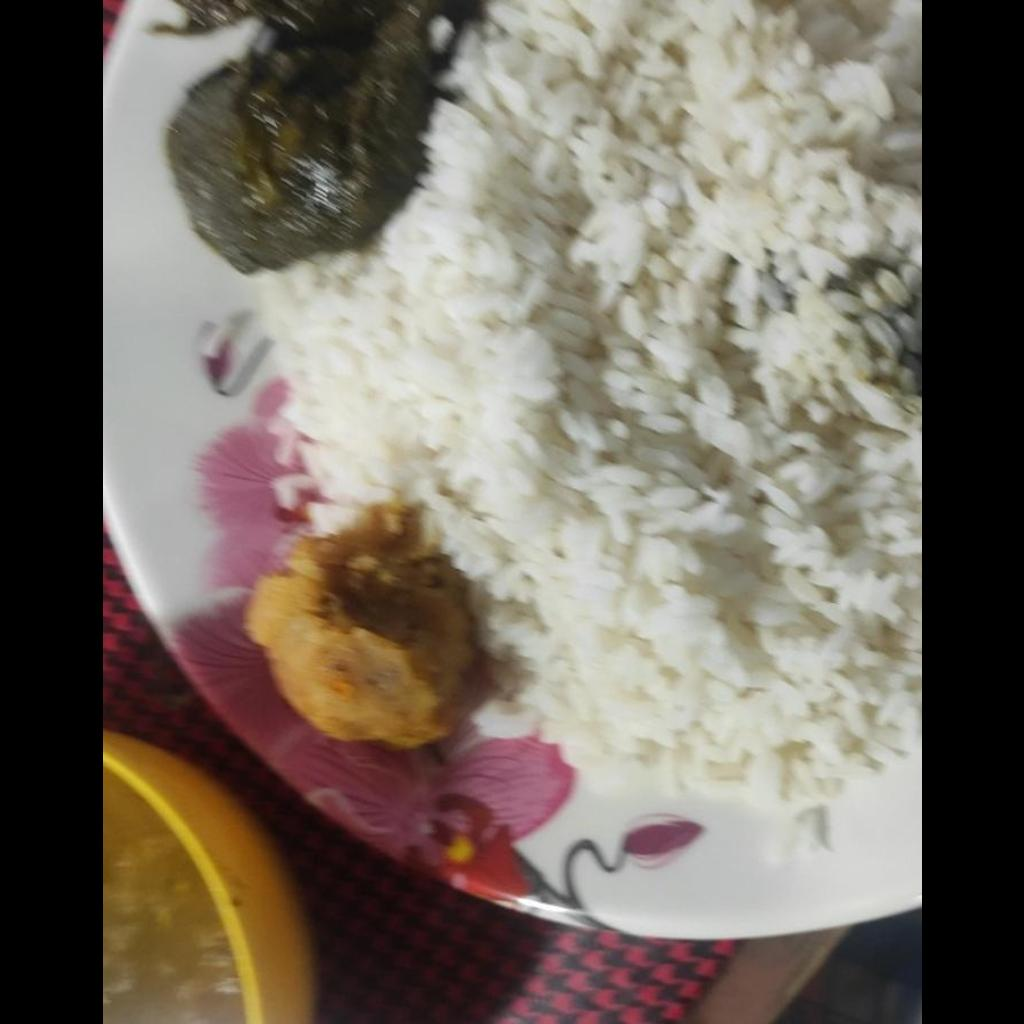daal: (102, 763, 241, 1023)
potato-mashed: (246, 503, 482, 749)
rice: (256, 0, 920, 801)
shak: (166, 0, 482, 273)
